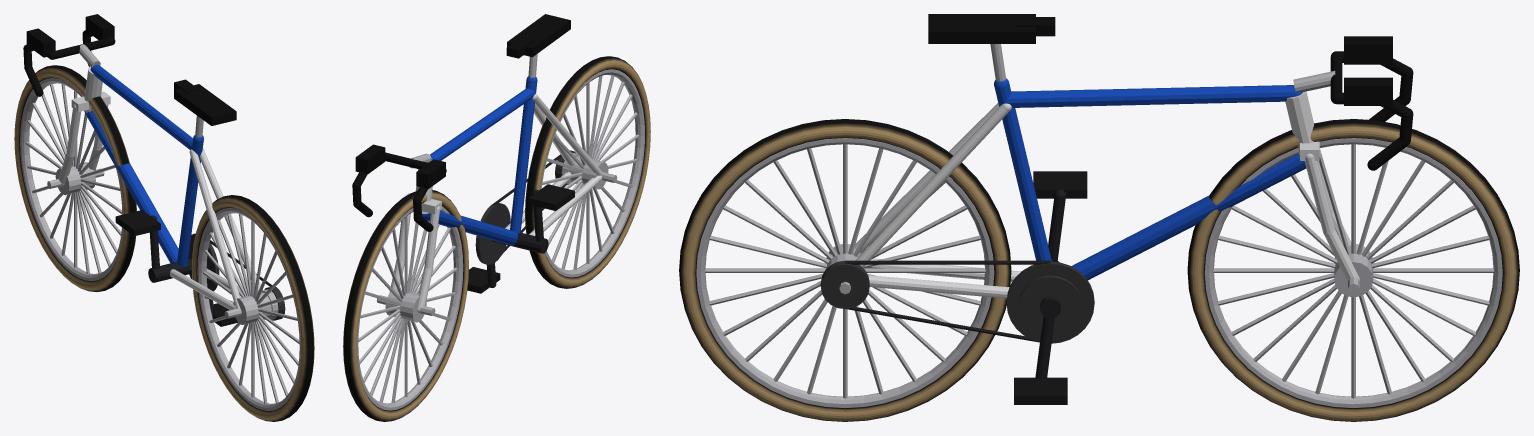
The model's file is bike-3.glb.
The picture shows the model from 3 angles, left to right: view 1: azimuth 30°, elevation 25°; view 2: azimuth 150°, elevation 25°; view 3: azimuth 270°, elevation 25°; orthographic projection. The views are drawn at different scales.
Parts seen in each view (by area): view 1: wheel_back, wheel_front, frame, drivetrain, handlebars, seat, fork; view 2: wheel_front, wheel_back, frame, drivetrain, handlebars, seat, fork; view 3: wheel_front, wheel_back, frame, drivetrain, handlebars, seat, fork.
Boxes of the visible parts, x1=… form: wheel_back: x1=191, y1=195, x2=314, y2=421; wheel_front: x1=14, y1=65, x2=136, y2=291; frame: x1=84, y1=64, x2=262, y2=314; drivetrain: x1=115, y1=210, x2=285, y2=326; handlebars: x1=23, y1=14, x2=115, y2=96; seat: x1=174, y1=79, x2=236, y2=137; fork: x1=58, y1=91, x2=110, y2=186; wheel_front: x1=343, y1=190, x2=468, y2=421; wheel_back: x1=525, y1=56, x2=650, y2=288; frame: x1=415, y1=76, x2=602, y2=245; drivetrain: x1=467, y1=150, x2=578, y2=293; handlebars: x1=352, y1=144, x2=446, y2=231; seat: x1=506, y1=14, x2=570, y2=77; fork: x1=389, y1=193, x2=441, y2=313; wheel_front: x1=1187, y1=119, x2=1519, y2=421; wheel_back: x1=679, y1=119, x2=1011, y2=421; frame: x1=854, y1=78, x2=1320, y2=298; drivetrain: x1=820, y1=171, x2=1094, y2=404; handlebars: x1=1293, y1=36, x2=1413, y2=170; seat: x1=928, y1=14, x2=1055, y2=81; fork: x1=1300, y1=141, x2=1359, y2=281.
Size of the model in its own units: 0.3872 by 0.9707 by 1.85.
